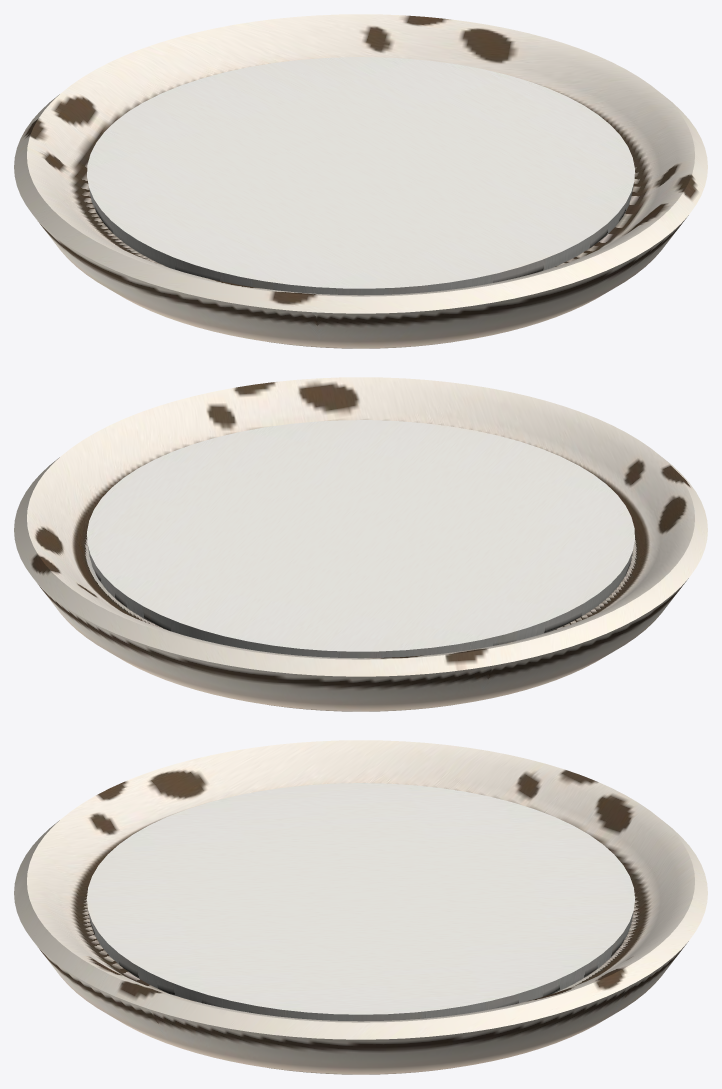
File: milk_bowl.glb
The picture shows the model from 3 angles, top to bottom: view 1: azimuth 30°, elevation 25°; view 2: azimuth 150°, elevation 25°; view 3: azimuth 270°, elevation 25°; orthographic projection.
Visible parts, largest first — view 1: milk_bowl; view 2: milk_bowl; view 3: milk_bowl.
Boxes of the visible parts, x1,y1,x2,y2 form: milk_bowl: (14,14,707,348); milk_bowl: (14,377,707,711); milk_bowl: (14,740,707,1074).
Size of the model in its own units: 0.324 by 0.039 by 0.324.
Materials: 1 (1 with a texture image).
